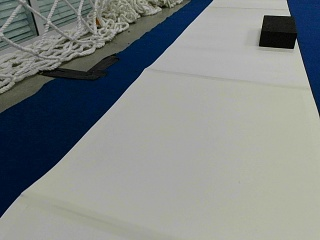block: (259, 14, 296, 48)
